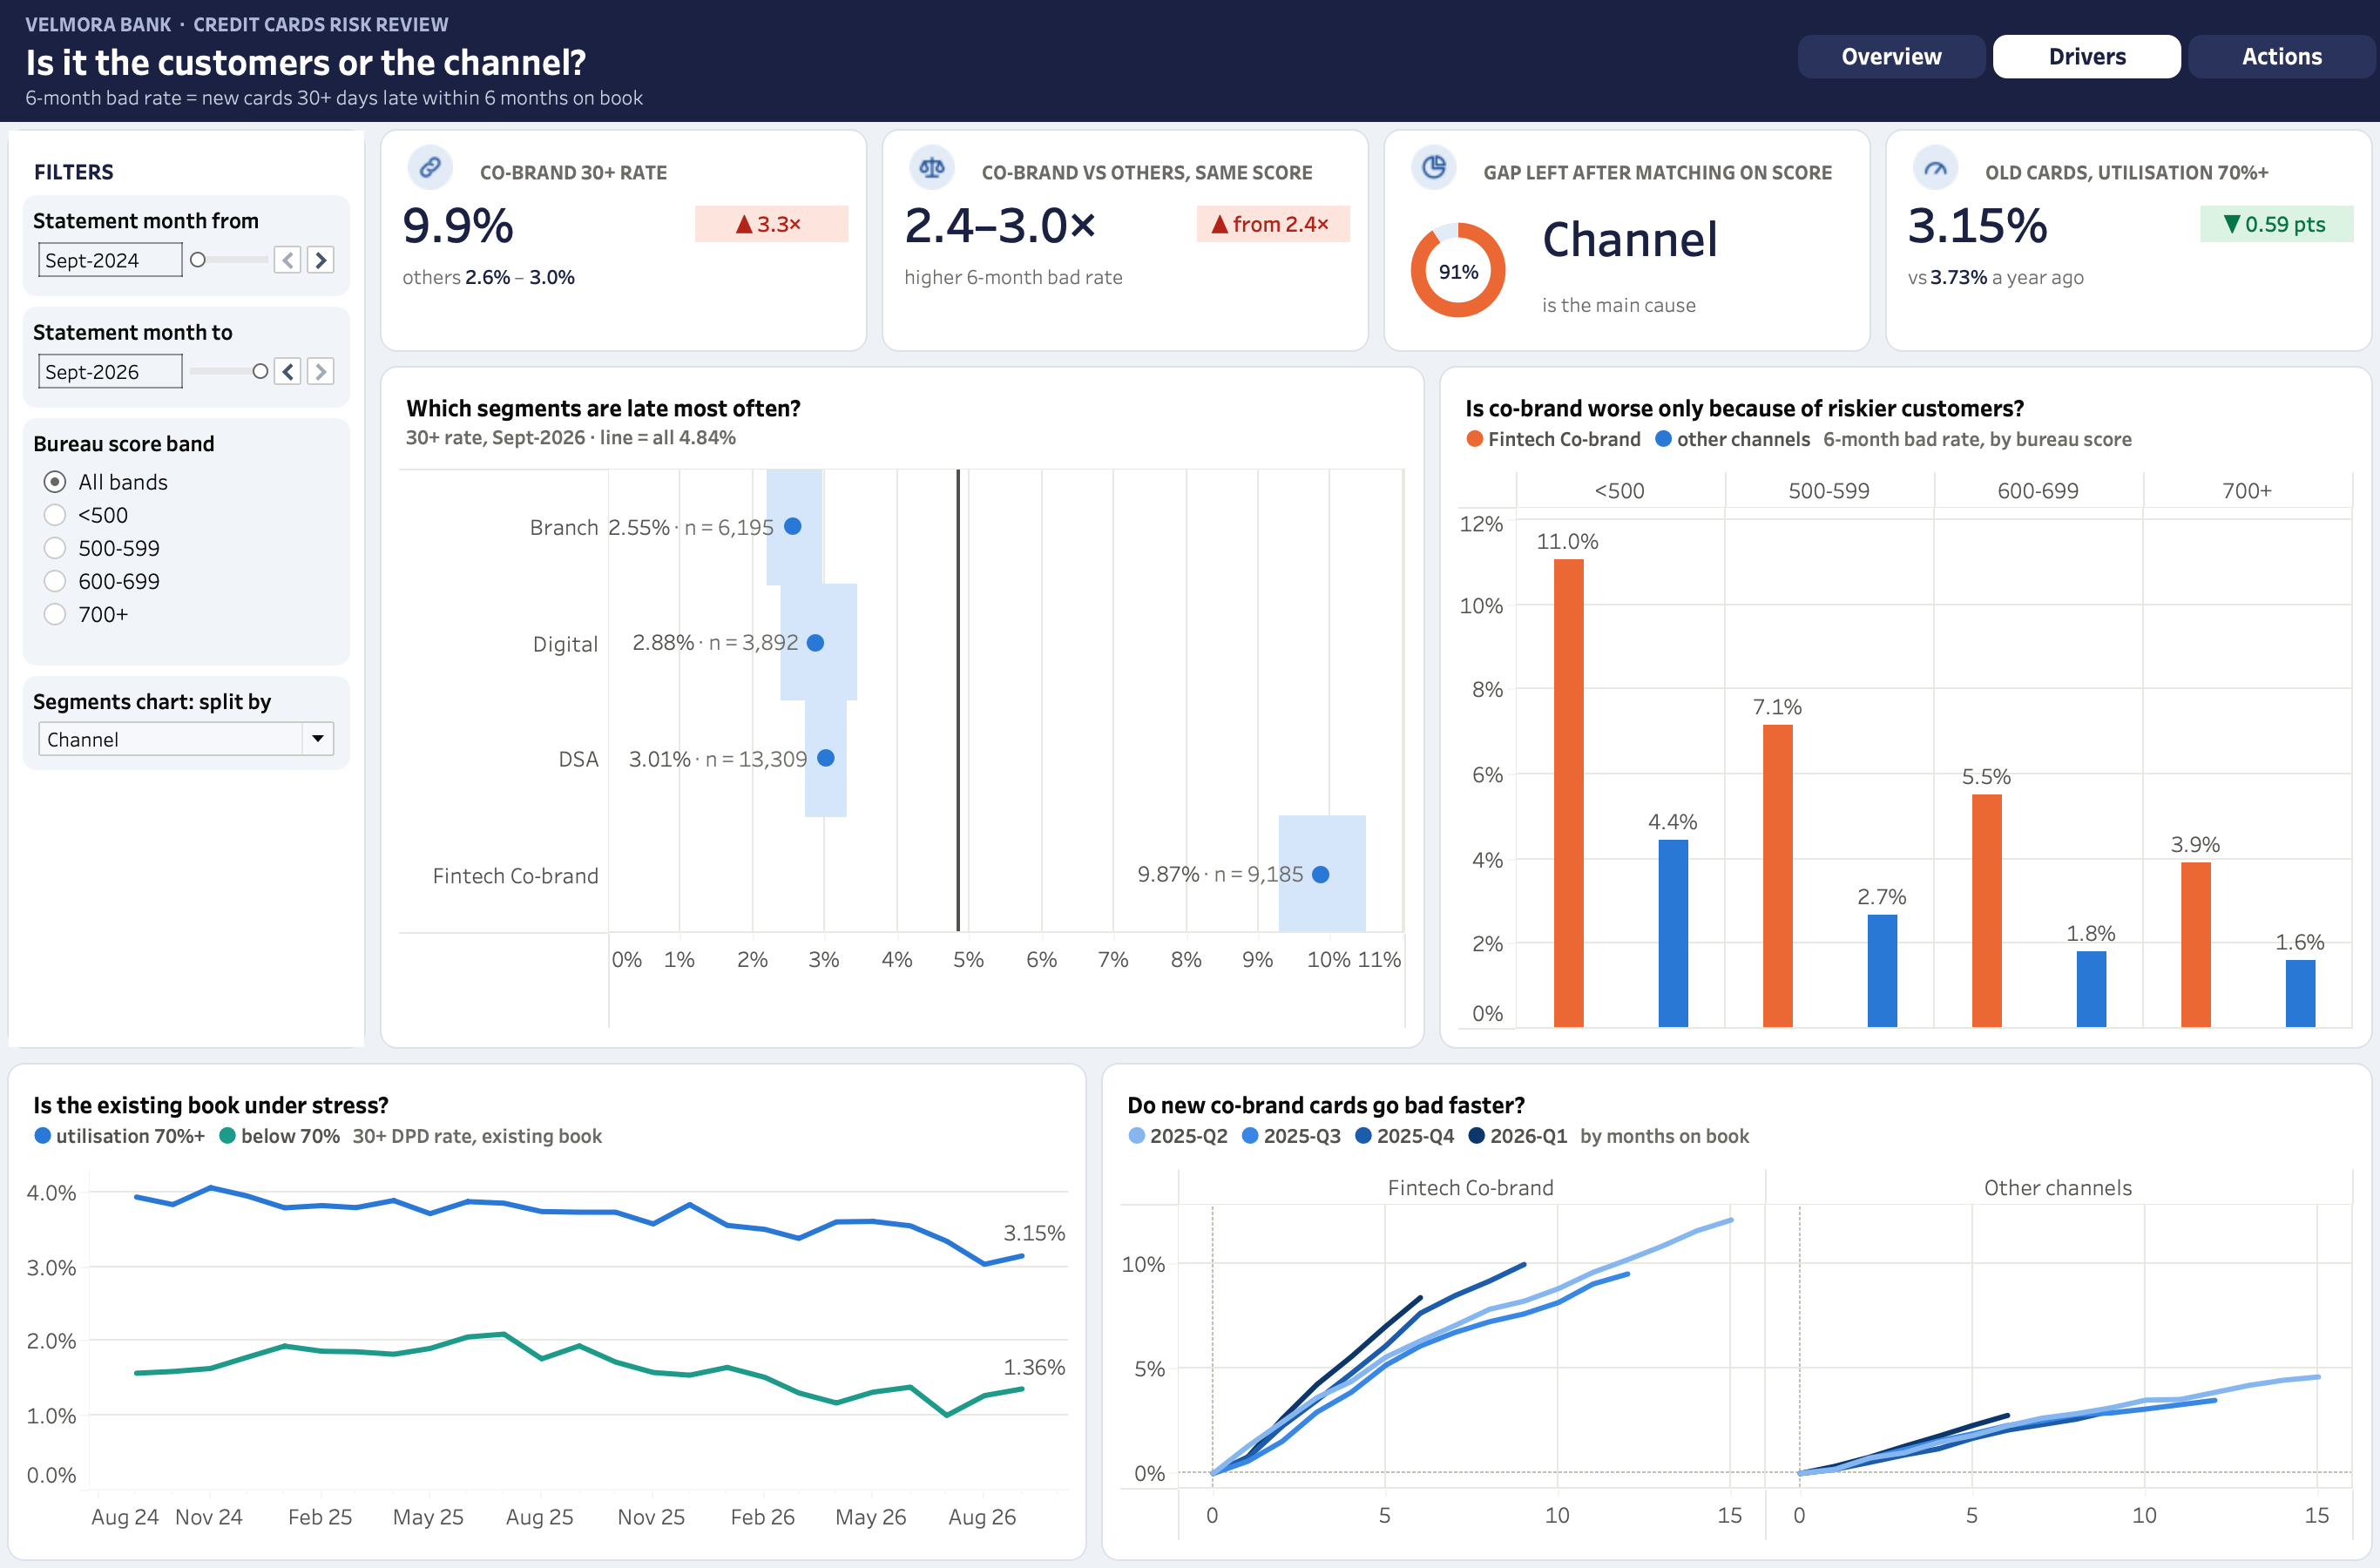

This screenshot's page, from the dashboard's own definition file:
{"tool":"tableau","page":{"name":"Drivers","canvas":[1366,900],"ordinal":1},"visuals":[{"type":"text","box":[4,4,1022,70]},{"type":"blank","box":[1026,4,336,18]},{"type":"dashboard-object","box":[1026,22,108,34]},{"type":"dashboard-object","box":[1134,22,108,34]},{"type":"dashboard-object","box":[1242,22,108,34]},{"type":"blank","box":[1026,56,336,18]},{"type":"text","box":[4,74,206,34]},{"type":"image","param":"/Users/vishalparmar/Desktop/Data-analyst/data_analysis_projects/finance/projects","box":[210,74,36,34]},{"type":"text","box":[246,74,252,34]},{"type":"image","param":"/Users/vishalparmar/Desktop/Data-analyst/data_analysis_projects/finance/projects","box":[498,74,36,34]},{"type":"text","box":[534,74,252,34]},{"type":"image","param":"/Users/vishalparmar/Desktop/Data-analyst/data_analysis_projects/finance/projects","box":[786,74,36,34]},{"type":"text","box":[822,74,252,34]},{"type":"image","param":"/Users/vishalparmar/Desktop/Data-analyst/data_analysis_projects/finance/projects","box":[1074,74,36,34]},{"type":"text","box":[1110,74,252,34]},{"type":"parameter","param":"[Parameters].[Statement month from]","box":[4,108,206,58]},{"type":"worksheet","title":"D V co-brand","mark":"Text","box":[210,108,200,40]},{"type":"worksheet","title":"D B co-brand","mark":"Bar","cols":["One"],"box":[410,108,88,40]},{"type":"worksheet","title":"D V same score","mark":"Text","box":[498,108,200,40]},{"type":"worksheet","title":"D B same score","mark":"Bar","cols":["One"],"box":[698,108,88,40]},{"type":"worksheet","title":"D R gap","mark":"Pie","rows":["Zero","Zero 2"],"box":[786,108,72,102]},{"type":"worksheet","title":"D V gap","mark":"Text","box":[858,108,216,48]},{"type":"worksheet","title":"D V util","mark":"Text","box":[1074,108,200,40]},{"type":"worksheet","title":"D B util","mark":"Bar","cols":["One"],"box":[1274,108,88,40]},{"type":"worksheet","title":"D C co-brand","mark":"Text","box":[210,148,288,22]},{"type":"worksheet","title":"D C same score","mark":"Text","box":[498,148,288,22]},{"type":"worksheet","title":"D C util","mark":"Text","box":[1074,148,288,22]},{"type":"worksheet","title":"D C gap","mark":"Text","box":[858,156,216,54]},{"type":"parameter","param":"[Parameters].[Statement month to]","box":[4,166,206,58]},{"type":"blank","box":[210,170,288,40]},{"type":"blank","box":[498,170,288,40]},{"type":"blank","box":[1074,170,288,40]},{"type":"worksheet","title":"D Segments","mark":"Automatic","rows":["Segment"],"cols":["CI low","30+ rate"],"box":[210,210,600,400]},{"type":"worksheet","title":"D Same score","mark":"Bar","rows":["bad_6m_rate"],"cols":["score_band","channel_group"],"box":[810,210,552,400]},{"type":"parameter","param":"[Parameters].[Bureau score band]","box":[4,224,206,142]},{"type":"parameter","param":"[Parameters].[Segments chart: split by]","box":[4,366,206,54]},{"type":"blank","box":[4,420,206,190]},{"type":"worksheet","title":"D Utilisation","mark":"Line","rows":["30+ rate"],"cols":["statement_month"],"box":[4,610,620,286]},{"type":"worksheet","title":"D Vintage","mark":"Line","rows":["Ever 30+ rate"],"cols":["channel_group","mob"],"box":[624,610,738,286]}]}

Visuals, with their boxes in screenshot pixels (x1, y1, x2, y2), scaled from the page's 1366x900 canvas onto the 2380x1568 screenshot:
text: 7,7,1788,129
blank: 1788,7,2373,38
dashboard-object: 1788,38,1976,98
dashboard-object: 1976,38,2164,98
dashboard-object: 2164,38,2352,98
blank: 1788,98,2373,129
text: 7,129,366,188
image: 366,129,429,188
text: 429,129,868,188
image: 868,129,930,188
text: 930,129,1369,188
image: 1369,129,1432,188
text: 1432,129,1871,188
image: 1871,129,1934,188
text: 1934,129,2373,188
parameter: 7,188,366,289
"D V co-brand" worksheet (Text marks): 366,188,714,258
"D B co-brand" worksheet (Bar marks): 714,188,868,258
"D V same score" worksheet (Text marks): 868,188,1216,258
"D B same score" worksheet (Bar marks): 1216,188,1369,258
"D R gap" worksheet (Pie marks): 1369,188,1495,366
"D V gap" worksheet (Text marks): 1495,188,1871,272
"D V util" worksheet (Text marks): 1871,188,2220,258
"D B util" worksheet (Bar marks): 2220,188,2373,258
"D C co-brand" worksheet (Text marks): 366,258,868,296
"D C same score" worksheet (Text marks): 868,258,1369,296
"D C util" worksheet (Text marks): 1871,258,2373,296
"D C gap" worksheet (Text marks): 1495,272,1871,366
parameter: 7,289,366,390
blank: 366,296,868,366
blank: 868,296,1369,366
blank: 1871,296,2373,366
"D Segments" worksheet: 366,366,1411,1063
"D Same score" worksheet (Bar marks): 1411,366,2373,1063
parameter: 7,390,366,638
parameter: 7,638,366,732
blank: 7,732,366,1063
"D Utilisation" worksheet (Line marks): 7,1063,1087,1561
"D Vintage" worksheet (Line marks): 1087,1063,2373,1561
